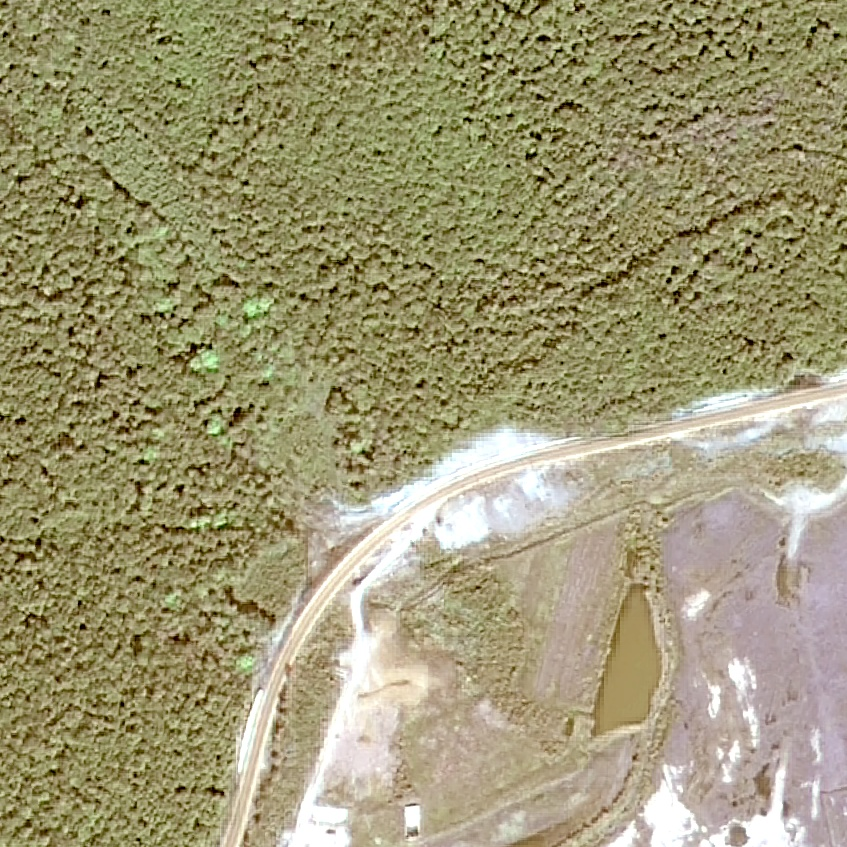slope: (295, 417, 582, 569)
